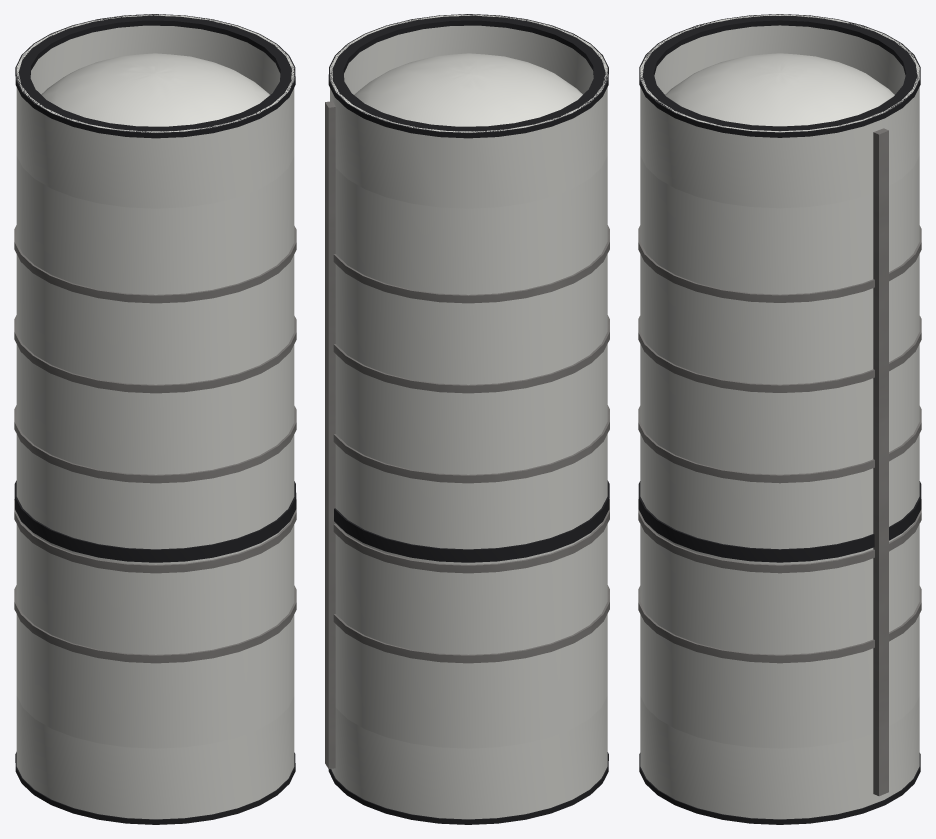
Rendered from tank00_kerolox_s.glb.
3 renders of one model, left to right at view 1: azimuth 30°, elevation 25°; view 2: azimuth 150°, elevation 25°; view 3: azimuth 270°, elevation 25°, orthographic.
Parts seen in each view (by area): view 1: tank, skirts, ring_frames, stack_flanges, bulkhead_band; view 2: tank, skirts, ring_frames, stack_flanges, raceway, bulkhead_band; view 3: tank, skirts, ring_frames, raceway, stack_flanges, bulkhead_band.
Part boxes in pixels (box(x1,y1,x2,y2)): tank: box(16, 53, 294, 748); skirts: box(16, 14, 294, 819); ring_frames: box(14, 225, 296, 663); stack_flanges: box(15, 14, 295, 824); bulkhead_band: box(14, 480, 296, 562); tank: box(335, 53, 607, 748); skirts: box(330, 14, 607, 819); ring_frames: box(333, 225, 609, 663); stack_flanges: box(328, 14, 608, 824); raceway: box(325, 101, 335, 768); bulkhead_band: box(334, 480, 609, 562); tank: box(640, 53, 919, 748); skirts: box(640, 14, 919, 819); ring_frames: box(638, 225, 921, 663); raceway: box(873, 128, 888, 796); stack_flanges: box(639, 14, 920, 824); bulkhead_band: box(638, 481, 921, 562).
Bounding box in the file's own units: 1.27 × 3.42 × 1.27.
Materials: 3 (1 with a texture image).
